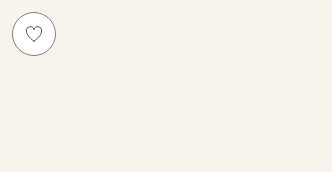
Test: V-07・V-08 HeartButton › V-08 保存が例外: 画面は止まらず、押した間は登録の表示になる（保存はされない）
Click the button named "商品Aをお気に入り": (34, 34) [12,12,56,56]
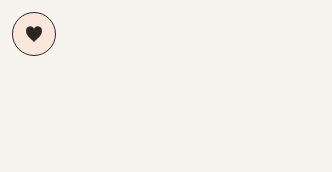
Check: the button named "商品Aをお気に入り" is pressed, box [12,12,56,56]
